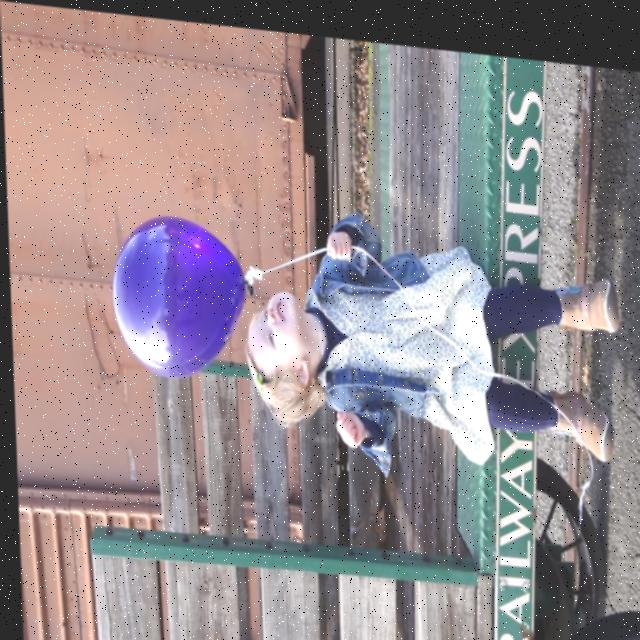balloon: (104, 196, 243, 384)
